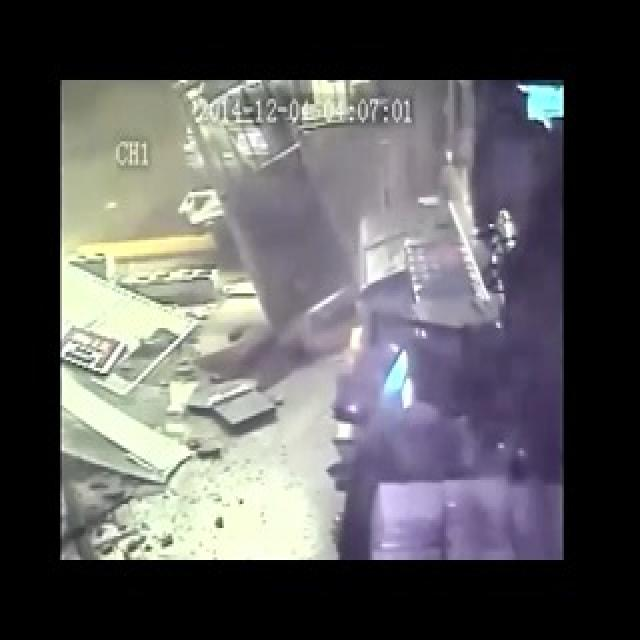burglary: (83, 94, 264, 418)
